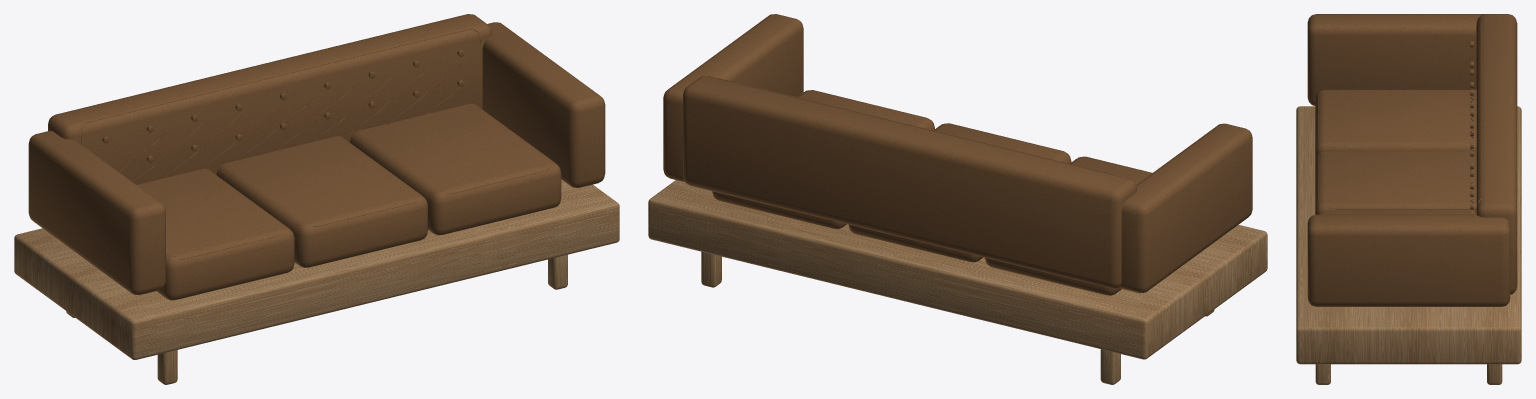
The model's file is chester-sofa.glb.
The picture shows the model from 3 angles, left to right: view 1: azimuth 30°, elevation 25°; view 2: azimuth 150°, elevation 25°; view 3: azimuth 270°, elevation 25°; orthographic projection. The views are drawn at different scales.
Parts seen in each view (by area): view 1: catalog_surface_UVMap, catalog_surface_RealismUV; view 2: catalog_surface_UVMap, catalog_surface_RealismUV; view 3: catalog_surface_UVMap, catalog_surface_RealismUV.
Boxes of the visible parts, x1=… form: catalog_surface_UVMap: x1=14, y1=14, x2=619, y2=384; catalog_surface_RealismUV: x1=81, y1=28, x2=554, y2=259; catalog_surface_UVMap: x1=648, y1=14, x2=1267, y2=384; catalog_surface_RealismUV: x1=719, y1=78, x2=1145, y2=175; catalog_surface_UVMap: x1=1296, y1=14, x2=1521, y2=384; catalog_surface_RealismUV: x1=1317, y1=21, x2=1482, y2=214.
Size of the model in its own units: 2.2 by 0.85 by 0.94.
Materials: 5 (2 with a texture image).
